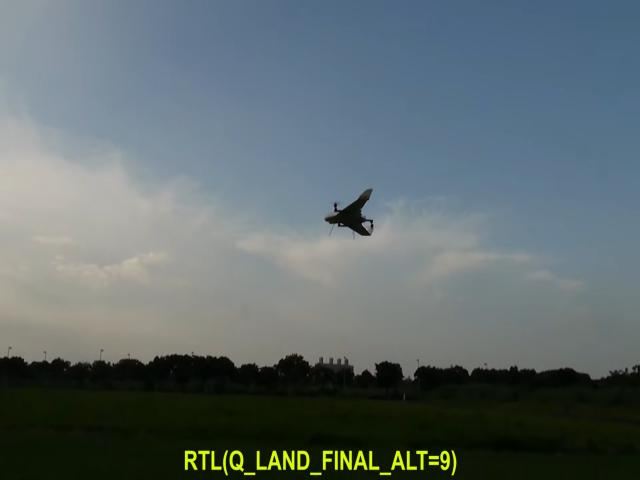plane: (324, 189, 378, 238)
